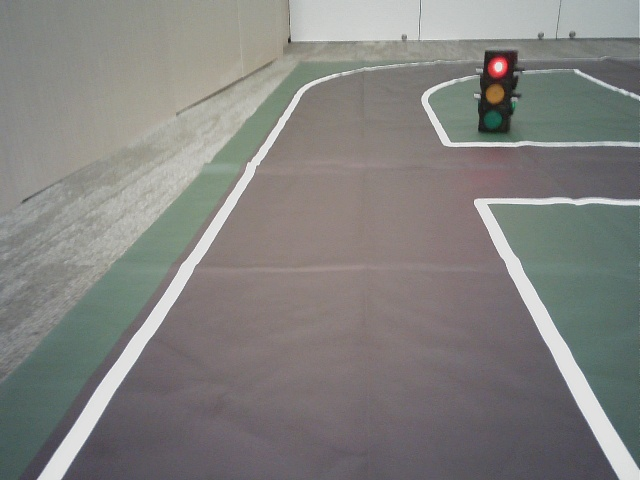red: (485, 53, 504, 130)
